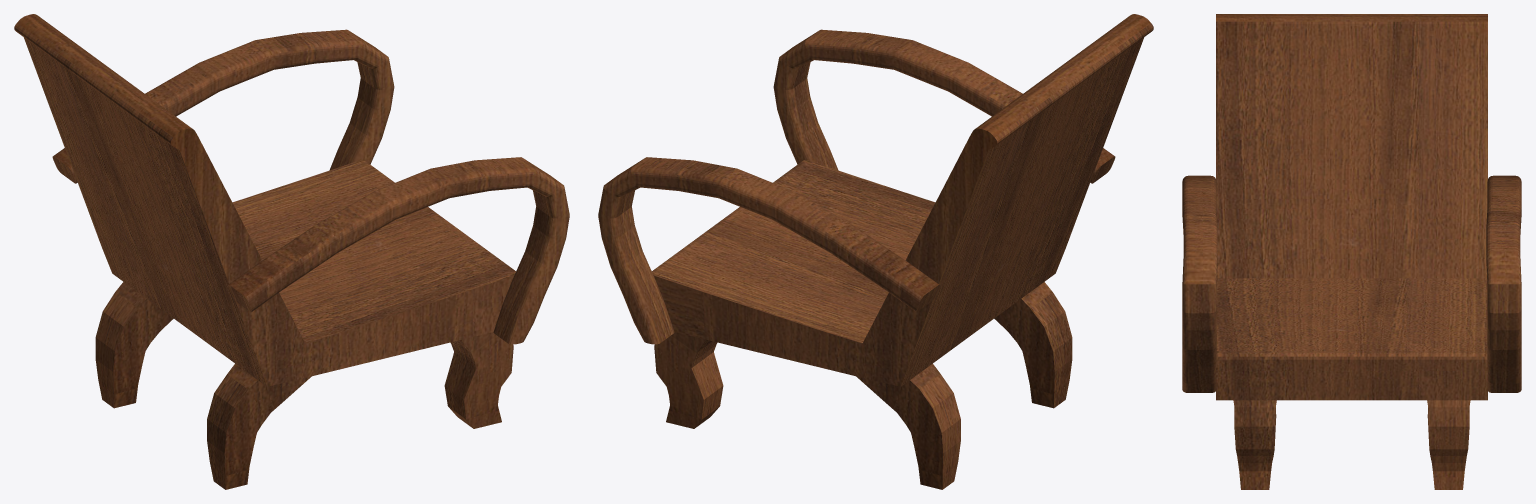
Rendered from chair.fbx.
3 renders of one model, left to right at view 1: azimuth 30°, elevation 25°; view 2: azimuth 150°, elevation 25°; view 3: azimuth 270°, elevation 25°, orthographic. The views are drawn at different scales.
Parts seen in each view (by area): view 1: Chair; view 2: Chair; view 3: Chair.
Part boxes in pixels (x1,y1,x2,y2): Chair: (14,14,569,489); Chair: (598,14,1153,489); Chair: (1182,14,1521,489).
Bounding box in the file's own units: 961 × 929 × 850.
Materials: 1 (1 with a texture image).
